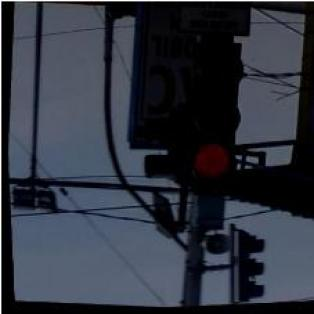Semaforo Rojo: (180, 40, 243, 188)
